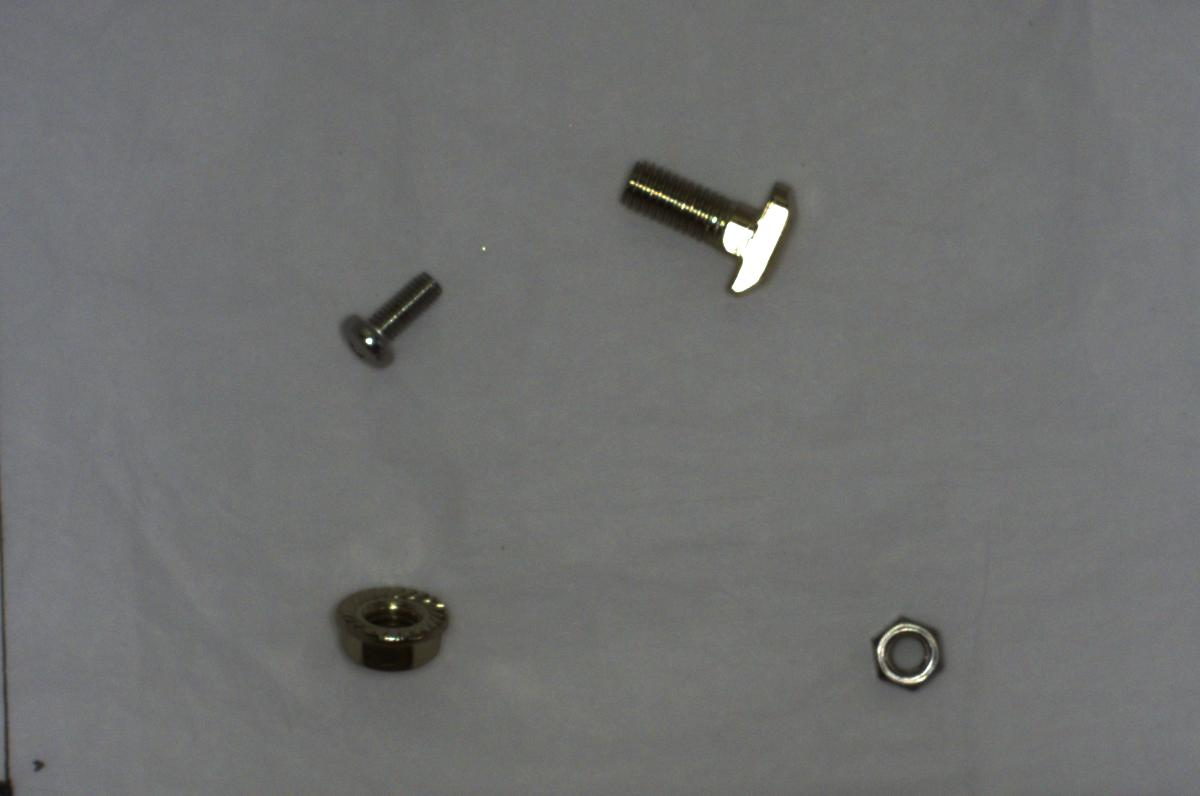Flange nut: (324, 570, 452, 674)
Hexagon nut: (864, 612, 944, 690)
Round head screw: (328, 265, 447, 372)
T-shaped screw: (608, 148, 804, 306)
